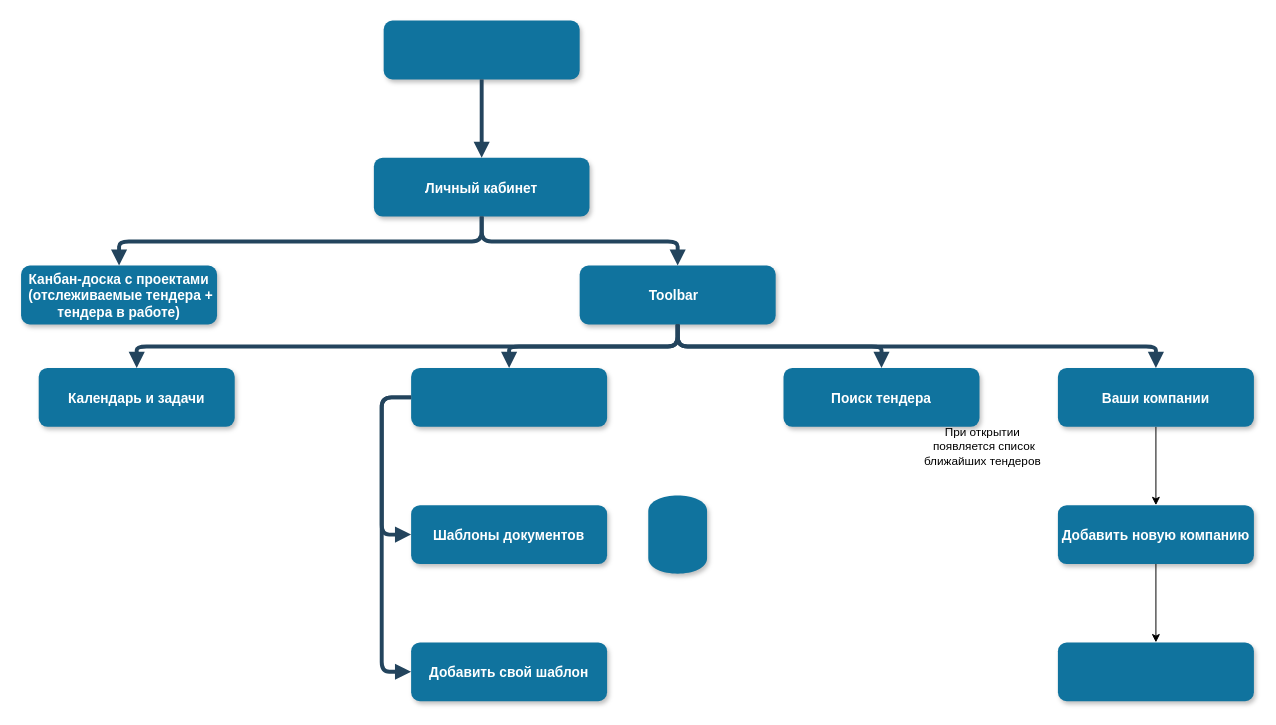
This 1276x725 diagram has some shape labels left out. Each missing label, with the centre of its shape:
"Вход" goes at point (482, 51).
"Выбор из списка" goes at point (678, 535).
"Компания А" goes at point (1156, 673).
"Формирование документов" goes at point (509, 398).
